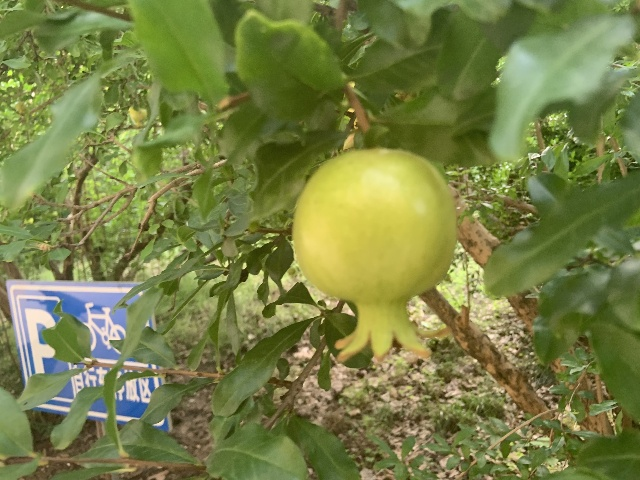mid-growth: (290, 148, 460, 369)
